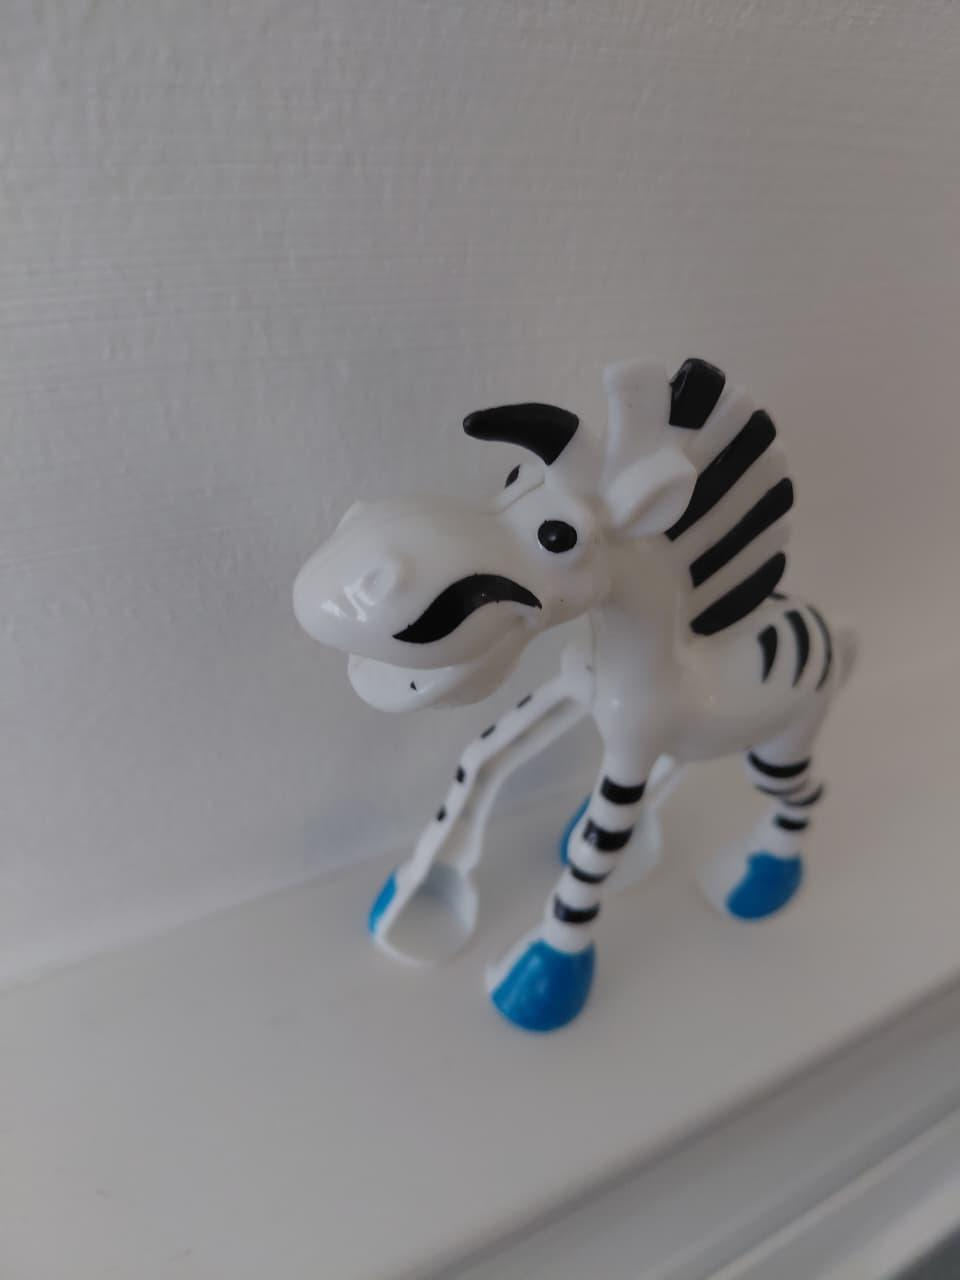zebra: (240, 305, 880, 1064)
